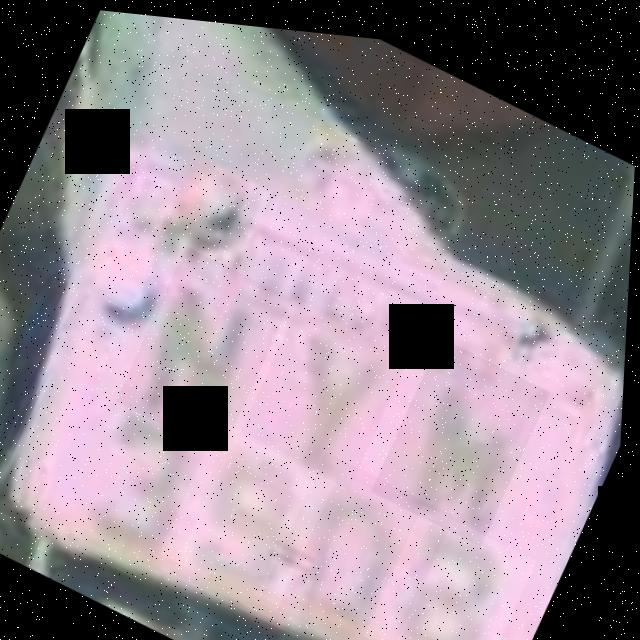0: (263, 440, 461, 640)
5: (45, 366, 240, 570)
8: (368, 490, 544, 640)
9: (163, 411, 342, 609)
N: (373, 323, 556, 541), (118, 237, 296, 454)
Y: (242, 273, 422, 487)
